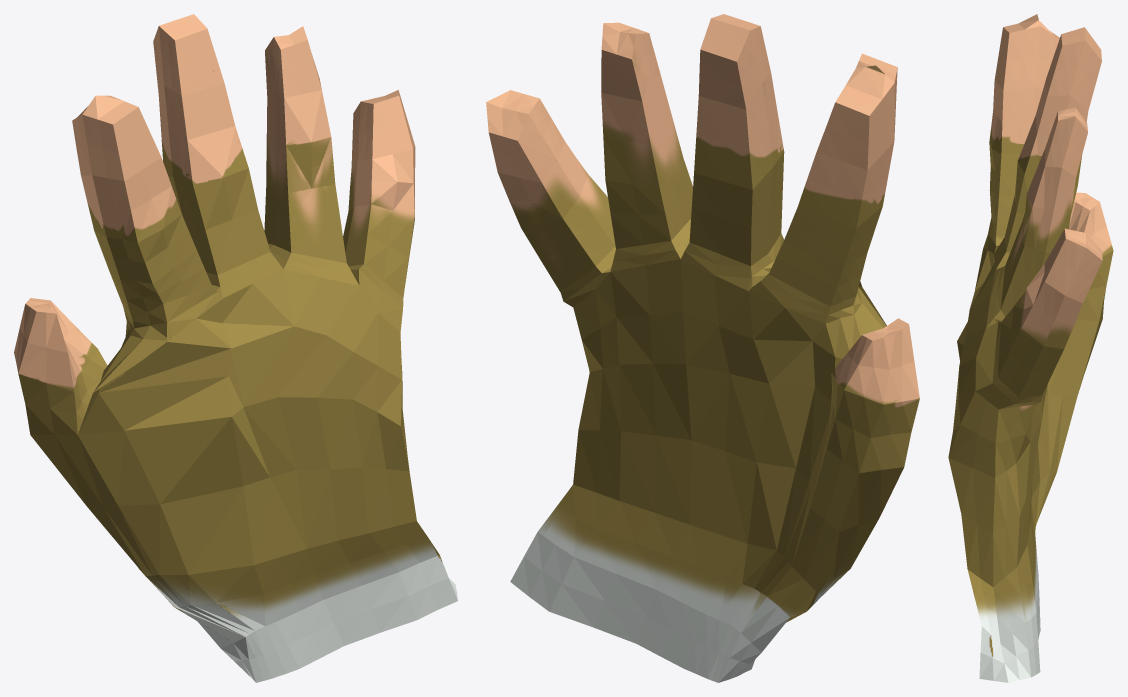
File: flexion0008.obj
3 views of the same model, side by side, from view 1: azimuth 30°, elevation 25°; view 2: azimuth 150°, elevation 25°; view 3: azimuth 270°, elevation 25° (orthographic). The views are drawn at different scales.
Visible parts, largest first — view 1: Hand; view 2: Hand; view 3: Hand.
Part boxes in pixels (x1,y1,x2,y2): Hand: [14, 14, 457, 682]; Hand: [486, 14, 919, 682]; Hand: [948, 14, 1113, 682].
Size of the model in its own units: 3.27 by 4.92 by 1.26.
